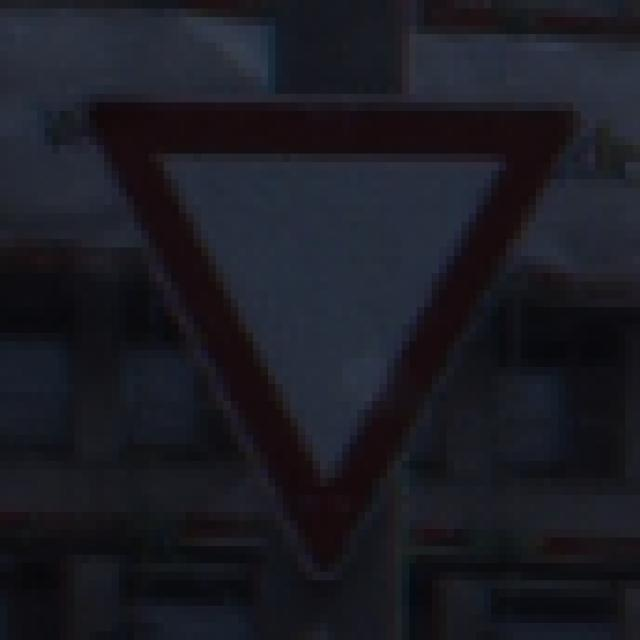Give Way: (60, 61, 589, 590)
